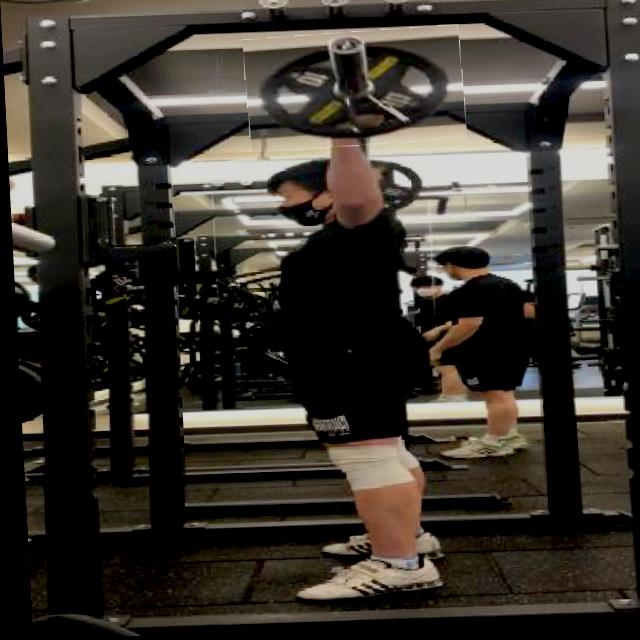barbell: (244, 31, 466, 154)
